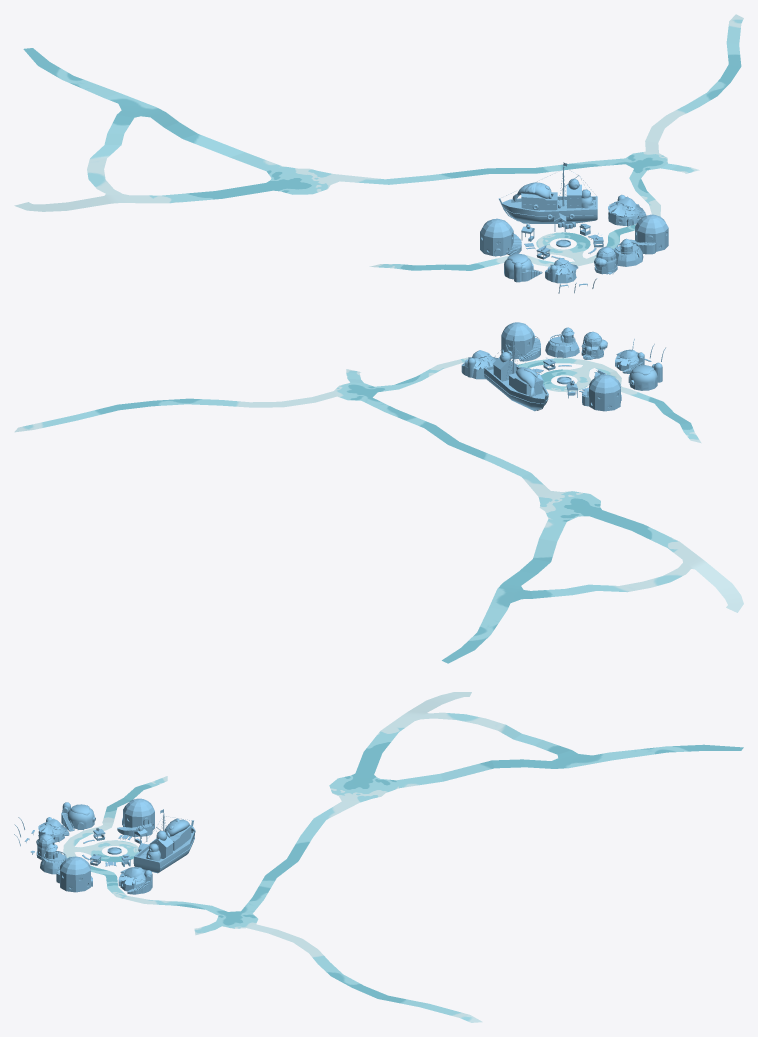
File: Neighborhood_SalmonSettlementLocked_03.fbx
3 renders of one model, top to bottom at view 1: azimuth 30°, elevation 25°; view 2: azimuth 150°, elevation 25°; view 3: azimuth 270°, elevation 25°, orthographic. The views are drawn at different scales.
Parts seen in each view (by area): view 1: Object_Road2, Neighborhood_SalmonSettlement_Locked_03_pasted__Boat02_paste; view 2: Object_Road2, Neighborhood_SalmonSettlement_Locked_03_pasted__Boat02_paste; view 3: Object_Road2, Neighborhood_SalmonSettlement_Locked_03_pasted__Boat02_paste.
Part boxes in pixels (box(x1,y1,x2,y2)): Object_Road2: box(14, 14, 743, 270); Neighborhood_SalmonSettlement_Locked_03_pasted__Boat02_paste: box(480, 162, 668, 293); Object_Road2: box(14, 357, 743, 663); Neighborhood_SalmonSettlement_Locked_03_pasted__Boat02_paste: box(461, 322, 665, 411); Object_Road2: box(63, 692, 743, 1022); Neighborhood_SalmonSettlement_Locked_03_pasted__Boat02_paste: box(14, 798, 195, 894).
Bounding box in the file's own units: 19011 × 1670 × 17230.
